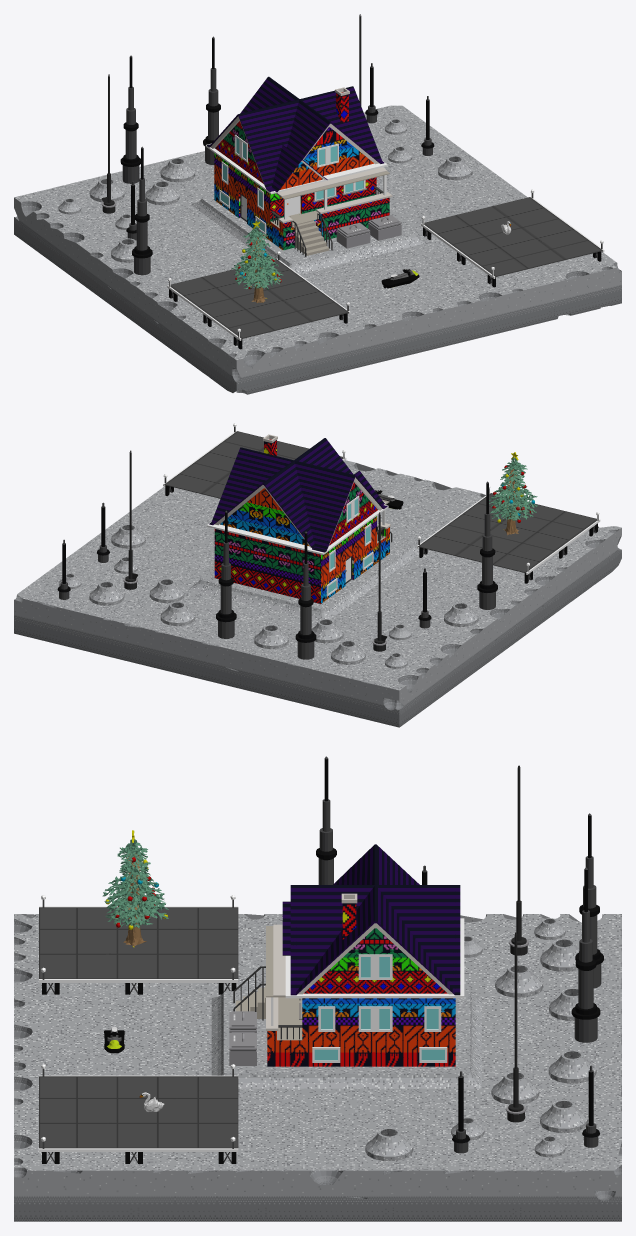
The picture shows the model from 3 angles, top to bottom: view 1: azimuth 30°, elevation 25°; view 2: azimuth 150°, elevation 25°; view 3: azimuth 270°, elevation 25°; orthographic projection. The views are drawn at different scales.
Parts seen in each view (by area): view 1: Cube.027, Cube.966, Cube.026, Cube.025, Cube.028, OBJRANDOM_CHRISTMAS_TREE, Cylinder.020, Cylinder.021, Cylinder.017, Cube.029, Cube.030, Cylinder.027 (+3 smaller); view 2: Cube.027, Cube.966, Cube.025, Cube.028, Cube.026, OBJRANDOM_CHRISTMAS_TREE, Cylinder.020, Cylinder.021, Cylinder.017, Cylinder.031, Cylinder.028, Cylinder.029 (+7 smaller); view 3: Cube.027, Cube.966, Cube.026, Cube.025, Cube.028, OBJRANDOM_CHRISTMAS_TREE, Cylinder.017, Cylinder.020, Cylinder.021, Cylinder.033, Cylinder.031, Cylinder.029 (+9 smaller).
Part boxes in pixels (x1=…): Cube.027: x1=14, y1=105, x2=621, y2=394; Cube.966: x1=205, y1=76, x2=392, y2=256; Cube.026: x1=421, y1=189, x2=604, y2=287; Cube.025: x1=167, y1=251, x2=350, y2=349; Cube.028: x1=191, y1=195, x2=424, y2=274; OBJRANDOM_CHRISTMAS_TREE: x1=231, y1=221, x2=283, y2=302; Cylinder.020: x1=120, y1=55, x2=140, y2=183; Cylinder.021: x1=132, y1=146, x2=152, y2=275; Cylinder.017: x1=203, y1=36, x2=220, y2=164; Cube.029: x1=336, y1=222, x2=370, y2=248; Cube.030: x1=368, y1=215, x2=401, y2=240; Cylinder.027: x1=160, y1=158, x2=195, y2=182; Cube.027: x1=14, y1=460, x2=621, y2=727; Cube.966: x1=206, y1=434, x2=392, y2=603; Cube.025: x1=417, y1=485, x2=600, y2=583; Cube.028: x1=190, y1=538, x2=419, y2=620; Cube.026: x1=163, y1=423, x2=346, y2=498; OBJRANDOM_CHRISTMAS_TREE: x1=489, y1=452, x2=537, y2=535; Cylinder.020: x1=295, y1=531, x2=316, y2=659; Cylinder.021: x1=477, y1=481, x2=497, y2=609; Cylinder.017: x1=216, y1=510, x2=236, y2=638; Cylinder.031: x1=89, y1=581, x2=124, y2=605; Cylinder.028: x1=331, y1=640, x2=365, y2=664; Cylinder.029: x1=160, y1=601, x2=195, y2=626; Cube.027: x1=14, y1=914, x2=621, y2=1221; Cube.966: x1=233, y1=844, x2=464, y2=1066; Cube.026: x1=39, y1=1064, x2=238, y2=1163; Cube.025: x1=39, y1=895, x2=238, y2=994; Cube.028: x1=211, y1=991, x2=481, y2=1088; OBJRANDOM_CHRISTMAS_TREE: x1=102, y1=830, x2=168, y2=947; Cylinder.017: x1=571, y1=867, x2=600, y2=1042; Cylinder.020: x1=575, y1=813, x2=603, y2=988; Cylinder.021: x1=316, y1=756, x2=336, y2=884; Cylinder.033: x1=365, y1=1128, x2=413, y2=1160; Cylinder.031: x1=540, y1=1100, x2=587, y2=1132; Cylinder.029: x1=548, y1=1050, x2=596, y2=1083.
Size of the model in its own units: 4000 by 1803 by 4000.
Materials: 35 (8 with a texture image).
